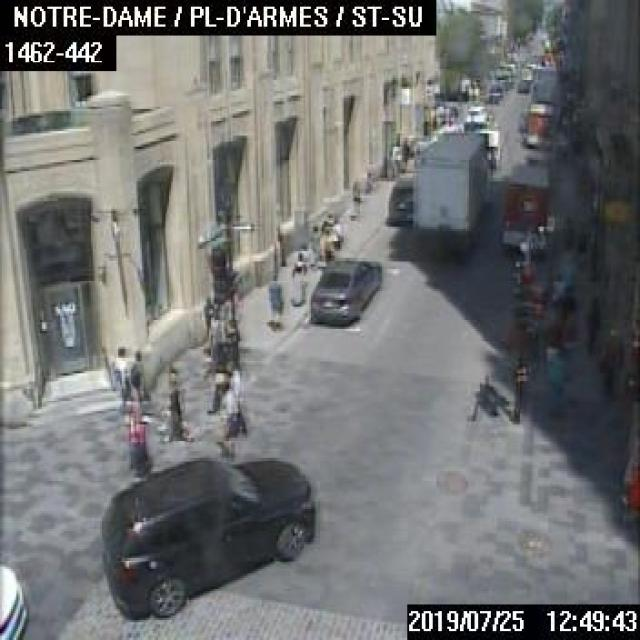pedestrian: (597, 326, 622, 392), (165, 369, 188, 440), (125, 403, 144, 471), (220, 382, 244, 434), (112, 340, 130, 408), (128, 341, 146, 409), (265, 273, 282, 327), (583, 296, 599, 352), (224, 358, 240, 393), (290, 264, 303, 302), (207, 310, 217, 355), (202, 295, 212, 339), (350, 176, 360, 219), (322, 225, 332, 264), (308, 223, 318, 262), (362, 170, 374, 192), (292, 249, 302, 269)
vehicle: (98, 451, 316, 620), (409, 128, 498, 242), (309, 256, 380, 324), (506, 160, 551, 249), (0, 560, 29, 638), (387, 170, 413, 230), (465, 104, 485, 125)
